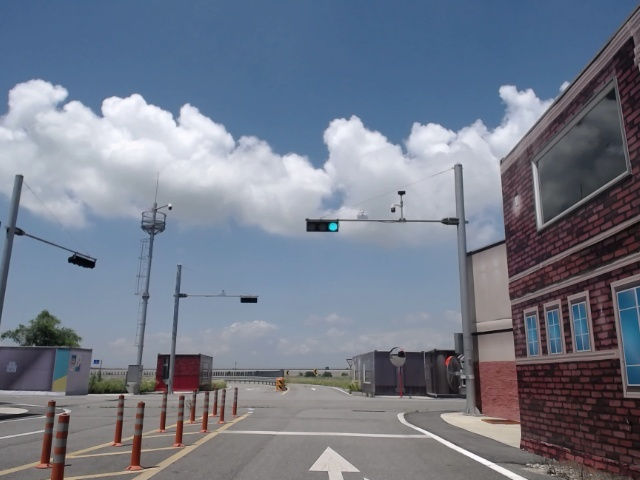green_3: (306, 221, 337, 232)
